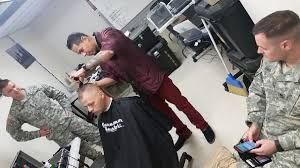uniform: (217, 50, 300, 164), (7, 71, 94, 154)
